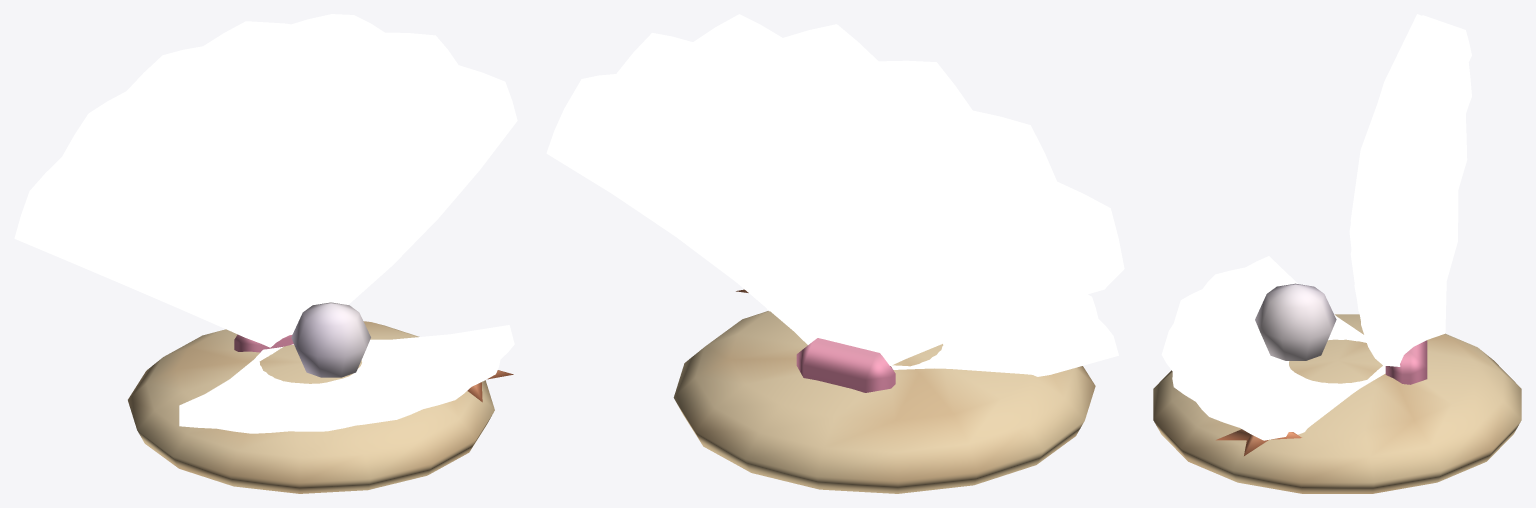
The model's file is furn-shellLamp.glb.
3 renders of one model, left to right at view 1: azimuth 30°, elevation 25°; view 2: azimuth 150°, elevation 25°; view 3: azimuth 270°, elevation 25°, orthographic. The views are drawn at different scales.
Visible parts, largest first — view 1: furn-shellLamp; view 2: furn-shellLamp; view 3: furn-shellLamp.
Part boxes in pixels (x1,y1,x2,y2): furn-shellLamp: [14, 14, 517, 493]; furn-shellLamp: [546, 14, 1124, 493]; furn-shellLamp: [1153, 14, 1521, 493].
Bounding box in the file's own units: 0.4207 × 0.2987 × 0.2668.
